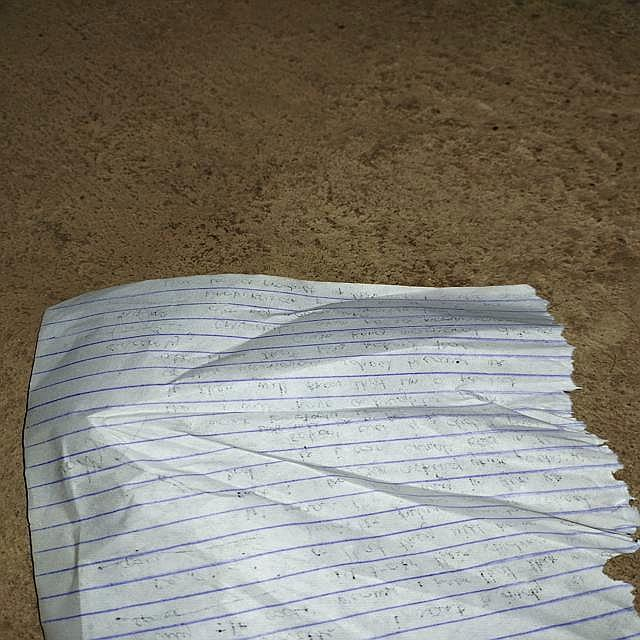Biodegradable: (29, 279, 640, 640)
